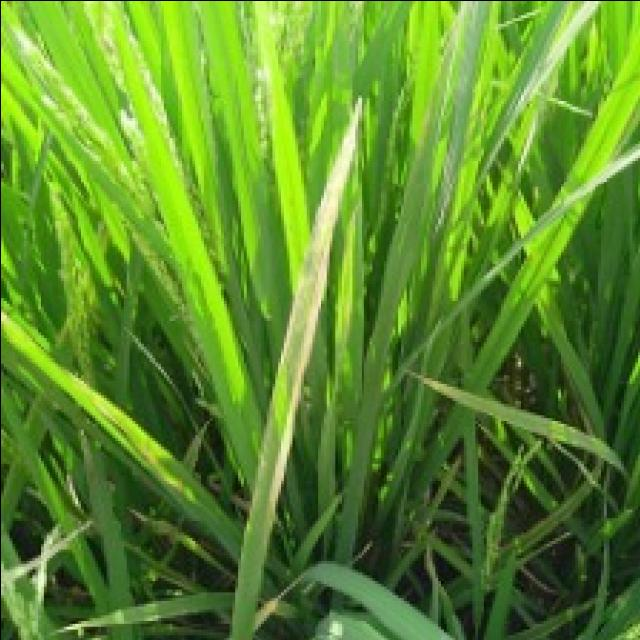Unhealthy: (265, 95, 359, 545), (277, 275, 302, 377), (403, 367, 466, 398)
